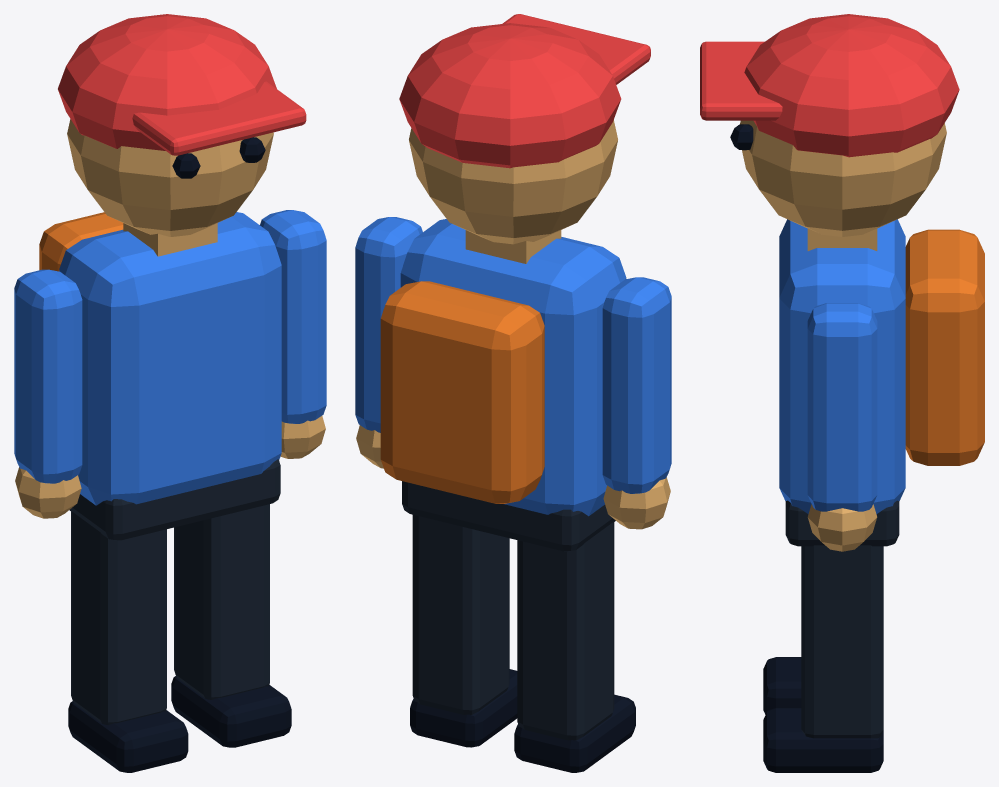
File: person-c-CSm4--jB.glb
The picture shows the model from 3 angles, left to right: view 1: azimuth 30°, elevation 25°; view 2: azimuth 150°, elevation 25°; view 3: azimuth 270°, elevation 25°; orthographic projection.
Parts seen in each view (by area): view 1: body.002, legL.002, legR.002, armL.002, armR.002; view 2: body.002, legL.002, legR.002, armL.002, armR.002; view 3: body.002, legR.002, armR.002, legL.002.
Boxes of the visible parts, bbox=[...] form: body.002: bbox=[39, 14, 306, 540]; legL.002: bbox=[68, 512, 188, 772]; legR.002: bbox=[171, 504, 291, 747]; armL.002: bbox=[14, 269, 82, 518]; armR.002: bbox=[260, 210, 326, 458]; body.002: bbox=[380, 14, 650, 551]; legL.002: bbox=[514, 522, 635, 772]; legR.002: bbox=[410, 515, 517, 747]; armL.002: bbox=[602, 277, 671, 529]; armR.002: bbox=[355, 217, 422, 468]; body.002: bbox=[700, 14, 984, 546]; legR.002: bbox=[763, 545, 883, 772]; armR.002: bbox=[807, 303, 877, 551]; legL.002: bbox=[763, 657, 801, 714].
Size of the model in its own units: 0.112 by 0.246 by 0.09.
